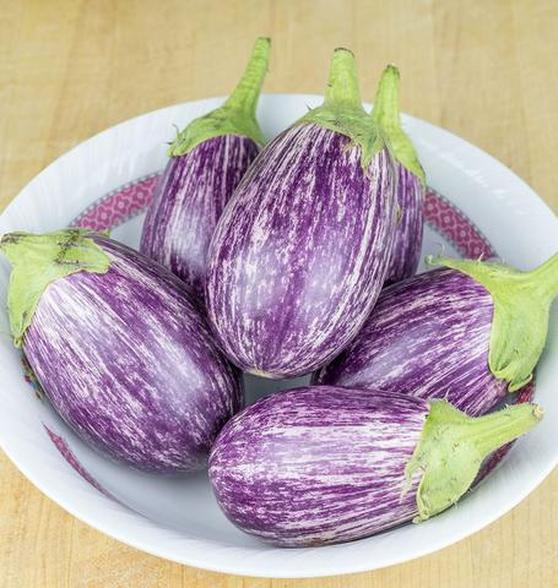eggplant: (230, 56, 392, 383)
